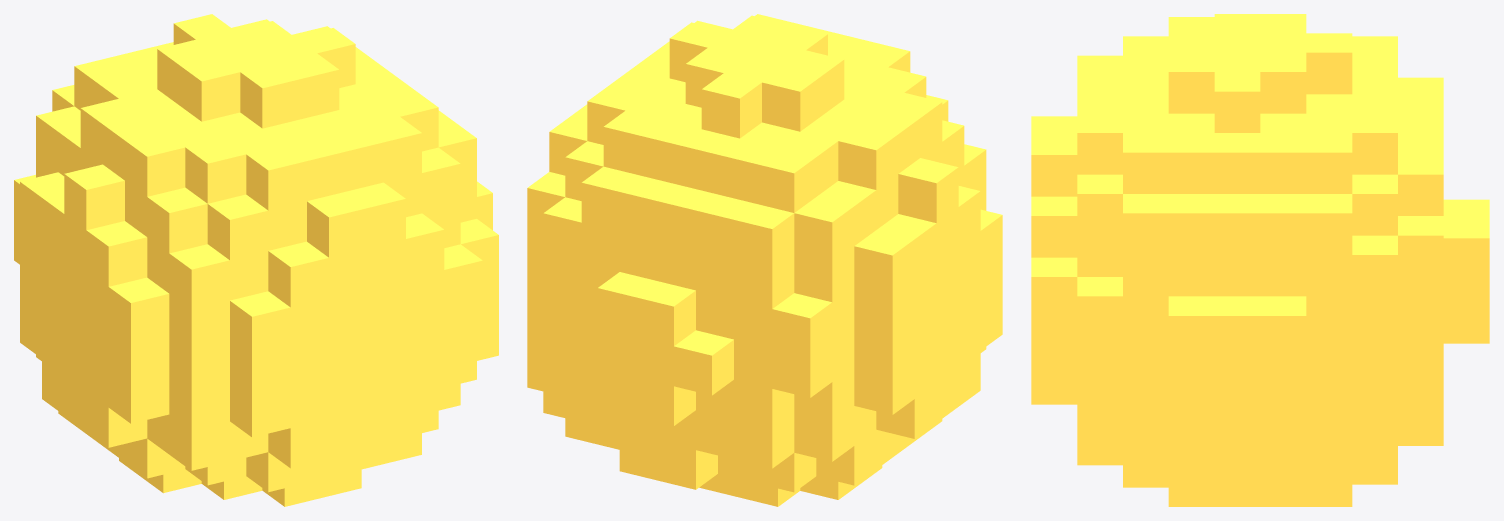
File: gold-ball.gltf
3 views of the same model, side by side, from view 1: azimuth 30°, elevation 25°; view 2: azimuth 150°, elevation 25°; view 3: azimuth 270°, elevation 25° (orthographic). The views are drawn at different scales.
Parts seen in each view (by area): view 1: 圆环.2; view 2: 圆环.2; view 3: 圆环.2.
Part boxes in pixels (left/top/right/bottom): 圆环.2: left=14, top=14, right=498, bottom=506; 圆环.2: left=527, top=14, right=1002, bottom=506; 圆环.2: left=1031, top=14, right=1489, bottom=506.
Size of the model in its own units: 1.2 by 1.2 by 1.2.
